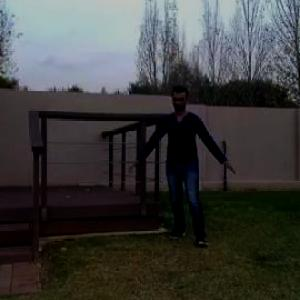land: (126, 74, 238, 266)
